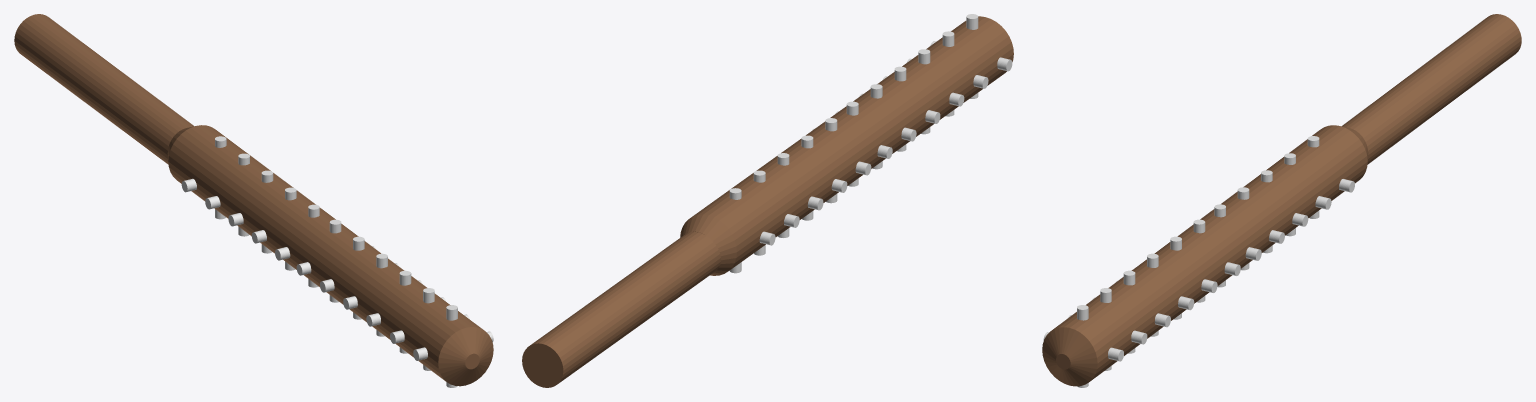
File: kanobo.fbx
The picture shows the model from 3 angles, left to right: view 1: azimuth 30°, elevation 25°; view 2: azimuth 150°, elevation 25°; view 3: azimuth 330°, elevation 25°; orthographic projection. The views are drawn at different scales.
Parts seen in each view (by area): view 1: Cylinder, Cylinder.001; view 2: Cylinder, Cylinder.001; view 3: Cylinder, Cylinder.001.
Part boxes in pixels (x1,y1,x2,y2): Cylinder: (167,125,493,386); Cylinder.001: (14,14,193,164); Cylinder: (680,16,1013,275); Cylinder.001: (522,231,720,387); Cylinder: (1042,125,1368,386); Cylinder.001: (1342,14,1521,164).
Size of the model in its own units: 149 by 149 by 1507.
